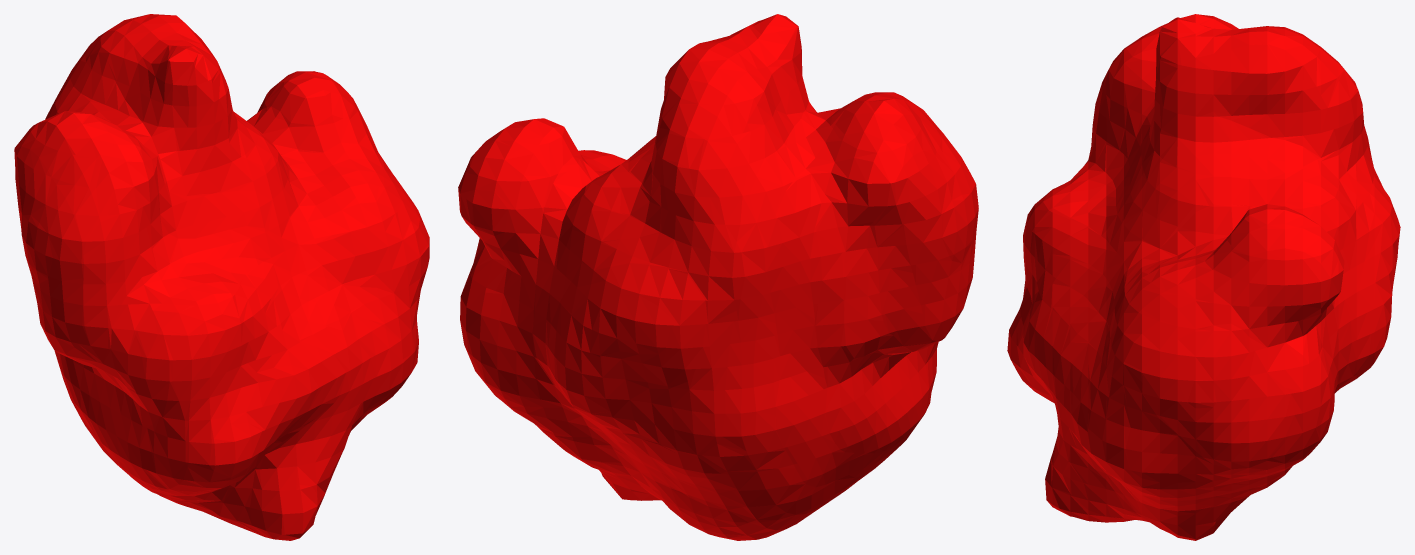
Rendered from leuD_coarse.dae.
3 views of the same model, side by side, from view 1: azimuth 30°, elevation 25°; view 2: azimuth 150°, elevation 25°; view 3: azimuth 270°, elevation 25° (orthographic). The views are drawn at different scales.
Visible parts, largest first — view 1: leuD; view 2: leuD; view 3: leuD.
Boxes of the visible parts, x1=… form: leuD: x1=14, y1=14, x2=429, y2=540; leuD: x1=458, y1=14, x2=978, y2=540; leuD: x1=1007, y1=14, x2=1400, y2=540.
Size of the model in its own units: 47.1 by 52.27 by 39.21.
